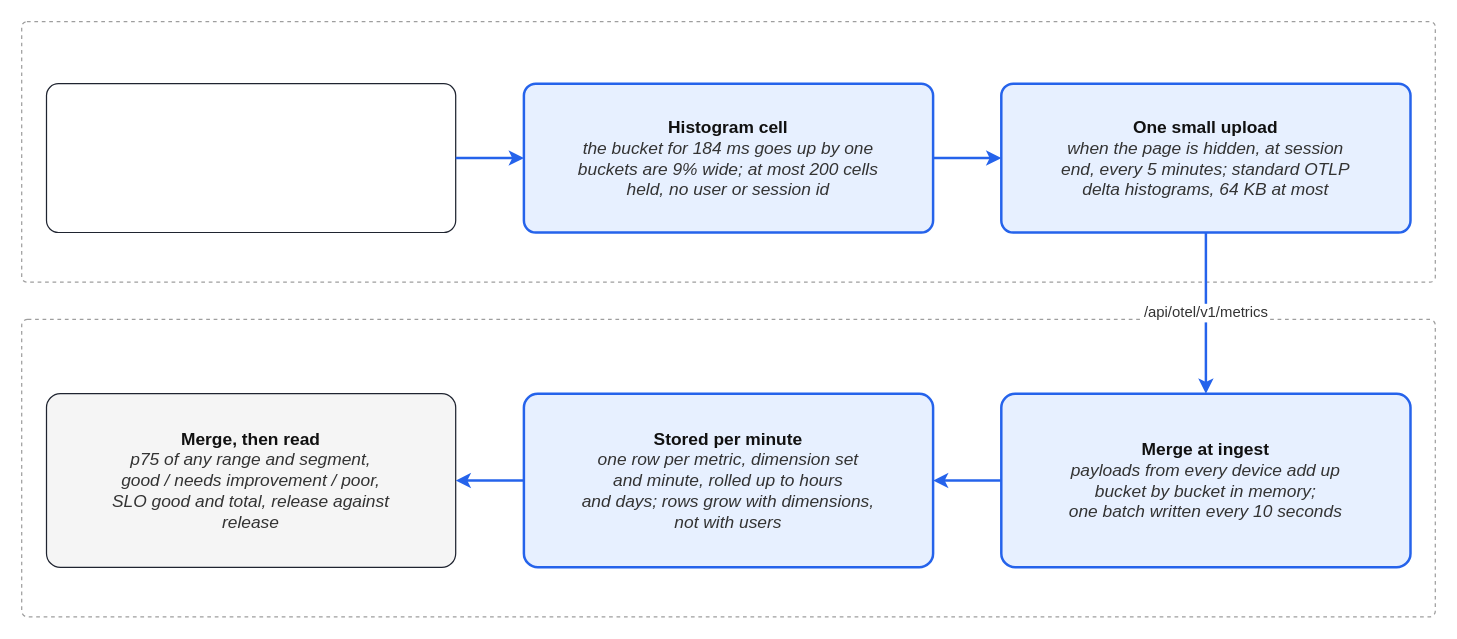
Some shapes in this 1457 by 639 pixel diagram are drawn without their labels. Here are the shapes that lost their labels. From the top down, the box of each, then its label:
(45, 82, 456, 232): One observation INP 184 ms on /checkout/:id release 4.2 · Android · phone
(20, 20, 1435, 282): On the device
(20, 318, 1435, 617): Traceway
